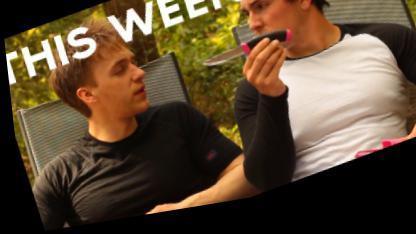knife: (190, 26, 300, 88)
